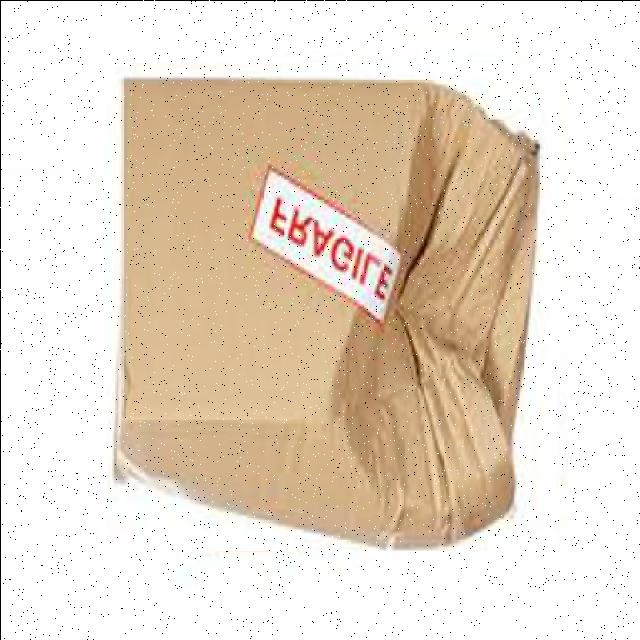defect: (106, 62, 556, 550)
